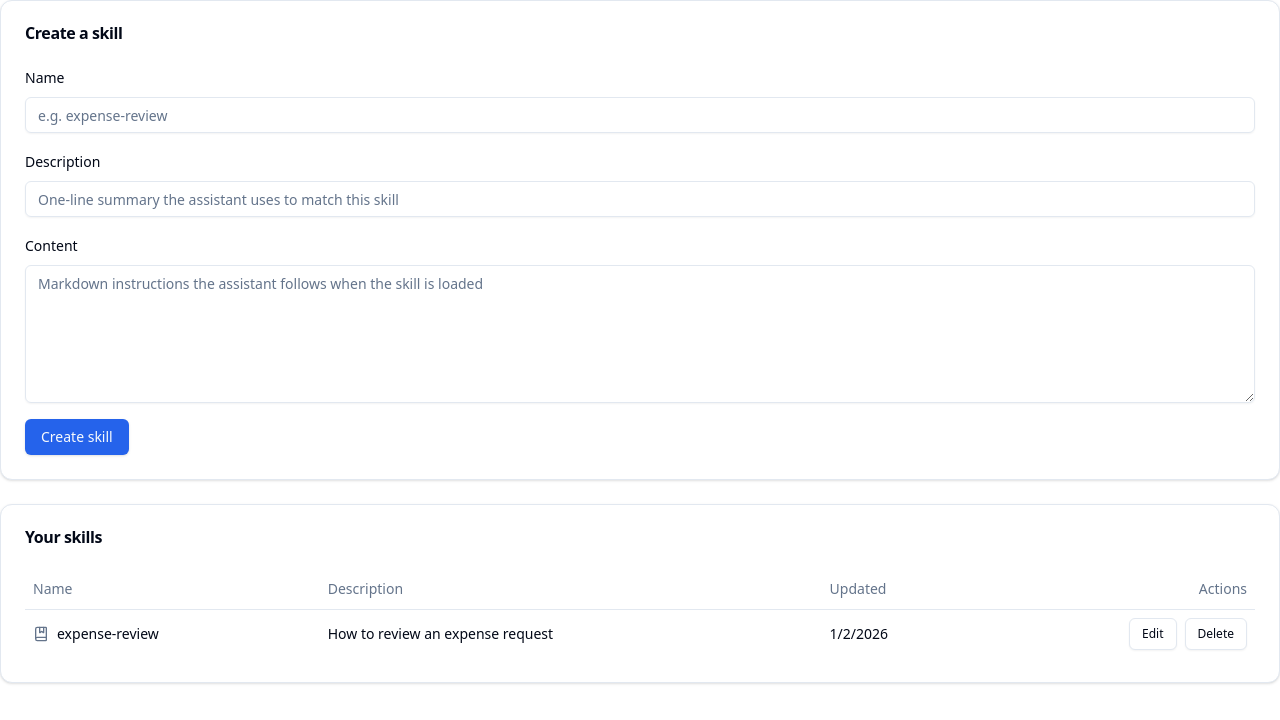
SkillsPanel › edits a skill in the dialog and updates the list
expect the text "expense-review" is shown: met, box [33, 624, 159, 642]
Click the button "Edit".
click(1153, 634)  # box [1129, 618, 1176, 650]
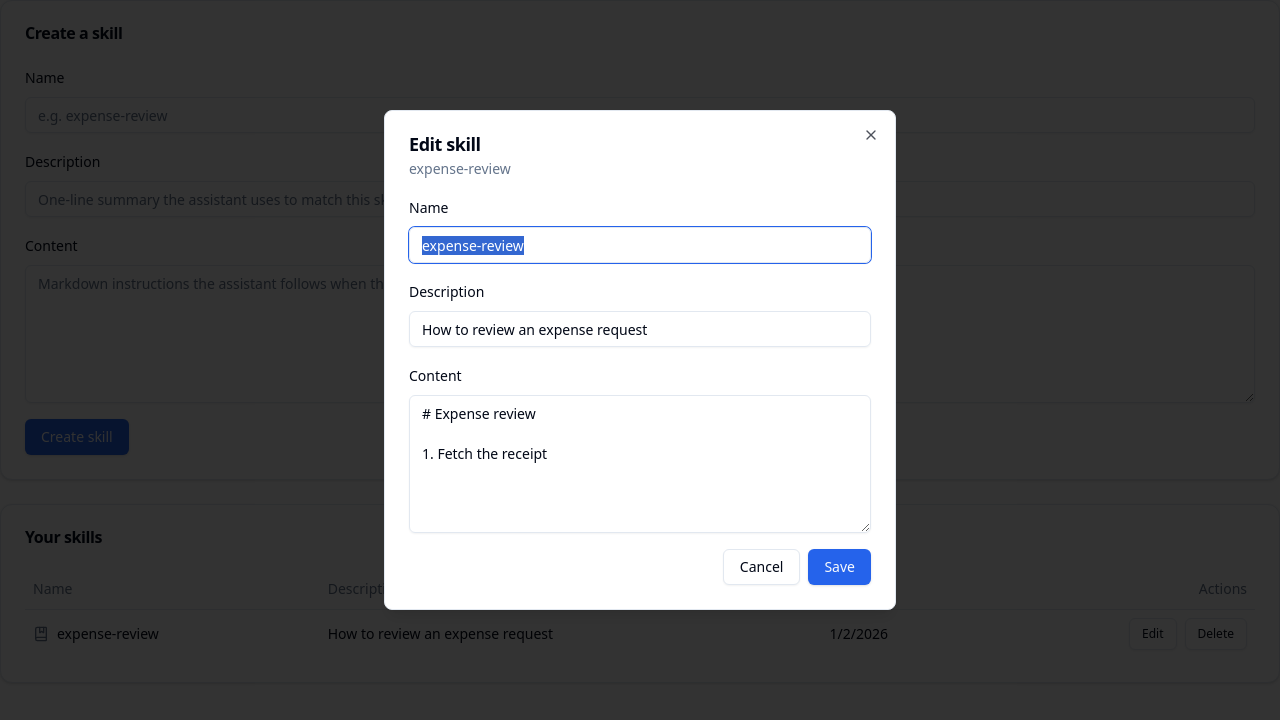
expect the field labelled "Name" holds "expense-review": met
Replace the text in the field labelled "Name" with "expense-review-v2" at (640, 245), box [409, 227, 871, 263]
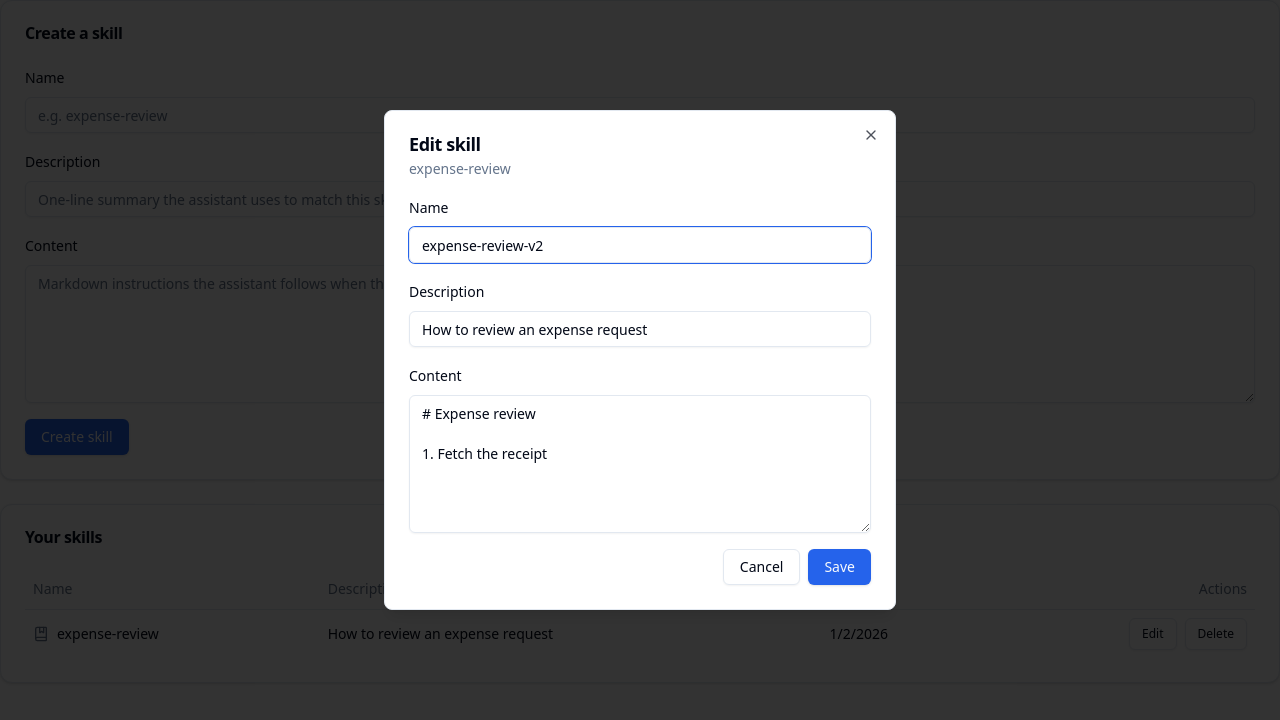
Click the button "Save".
click(840, 567)  # box [808, 549, 871, 585]
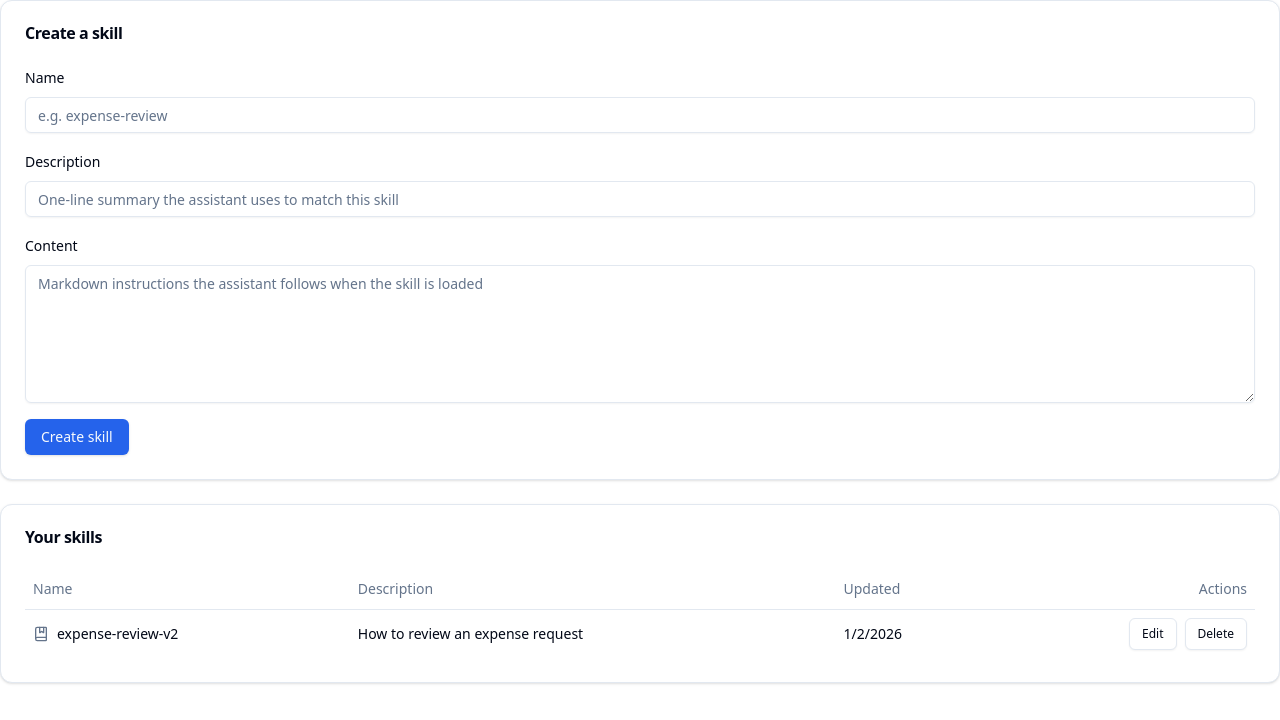
expect the text "expense-review-v2" is shown: met, box [33, 624, 178, 642]
